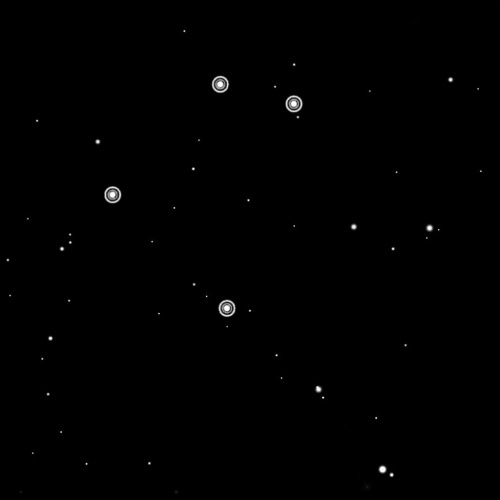coma_berenices: (99, 70, 309, 320)
